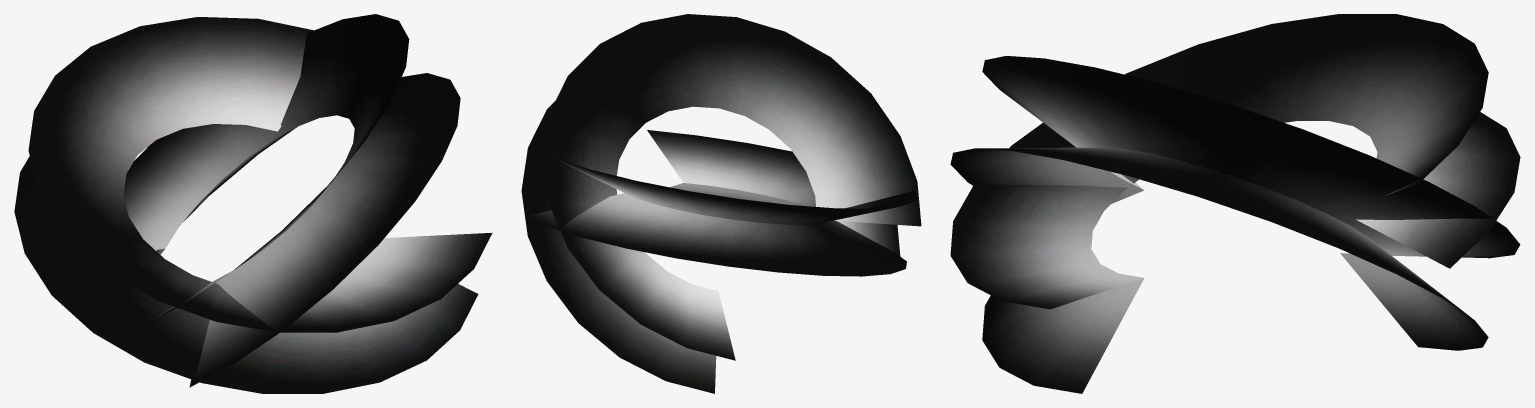
Rendered from vfx_kurp_1021.dae.
The picture shows the model from 3 angles, left to right: view 1: azimuth 30°, elevation 25°; view 2: azimuth 150°, elevation 25°; view 3: azimuth 270°, elevation 25°; orthographic projection. The views are drawn at different scales.
Visible parts, largest first — view 1: vfx_kurp_1021; view 2: vfx_kurp_1021; view 3: vfx_kurp_1021.
Boxes of the visible parts, left/top/right/bottom form: vfx_kurp_1021: left=14, top=14, right=492, bottom=393; vfx_kurp_1021: left=521, top=14, right=921, bottom=393; vfx_kurp_1021: left=950, top=14, right=1520, bottom=393.
Bounding box in the file's own units: 7.64 × 8 × 5.87.
Materials: 1 (1 with a texture image).
